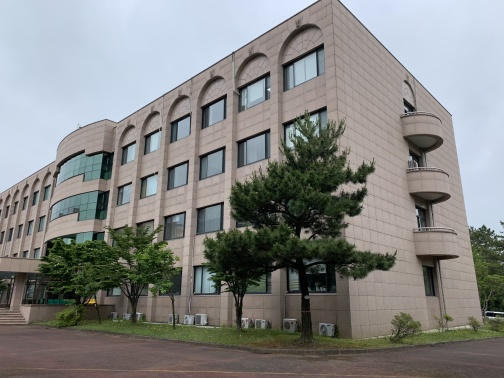Natural Science2: (37, 92, 330, 327), (297, 24, 475, 348), (3, 108, 144, 333)
